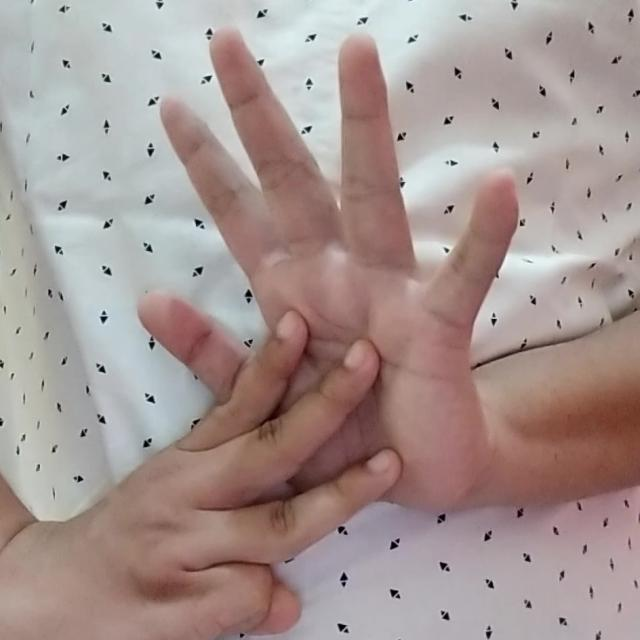P: (70, 17, 534, 633)
